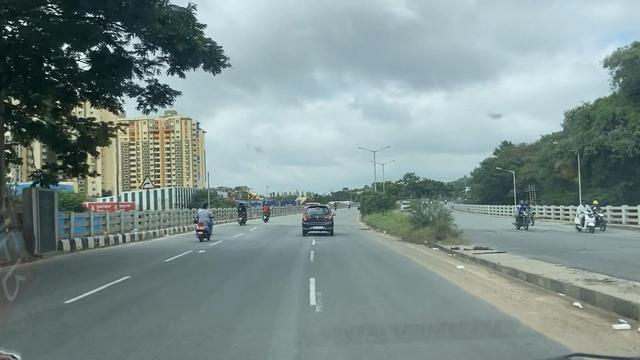LMV: (303, 206, 331, 232), (199, 202, 211, 240), (237, 201, 248, 222), (261, 202, 270, 220)
RoadDamages: (356, 225, 374, 235)
